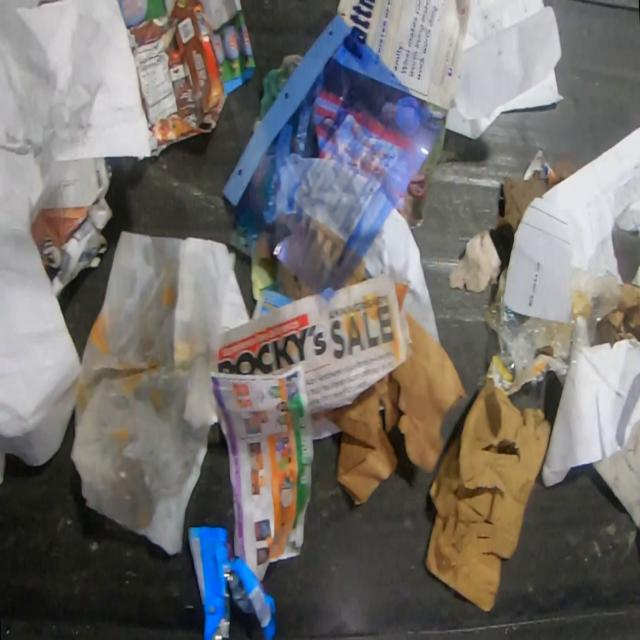cardboard: (310, 307, 471, 507), (422, 380, 552, 614), (126, 0, 229, 151), (37, 156, 114, 300), (496, 157, 578, 235), (590, 419, 639, 532), (484, 342, 569, 398), (597, 281, 640, 345), (274, 264, 313, 300), (344, 258, 368, 287), (255, 240, 274, 265)
rigid_plastic: (112, 456, 147, 516)
soft_plastic: (218, 10, 446, 305), (484, 265, 622, 376), (187, 524, 278, 639), (252, 52, 304, 134)
